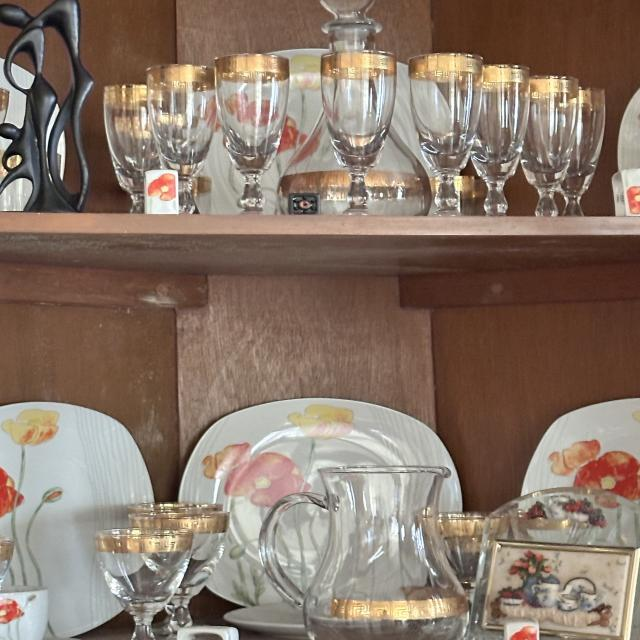hidden camera: (298, 200, 311, 209)
